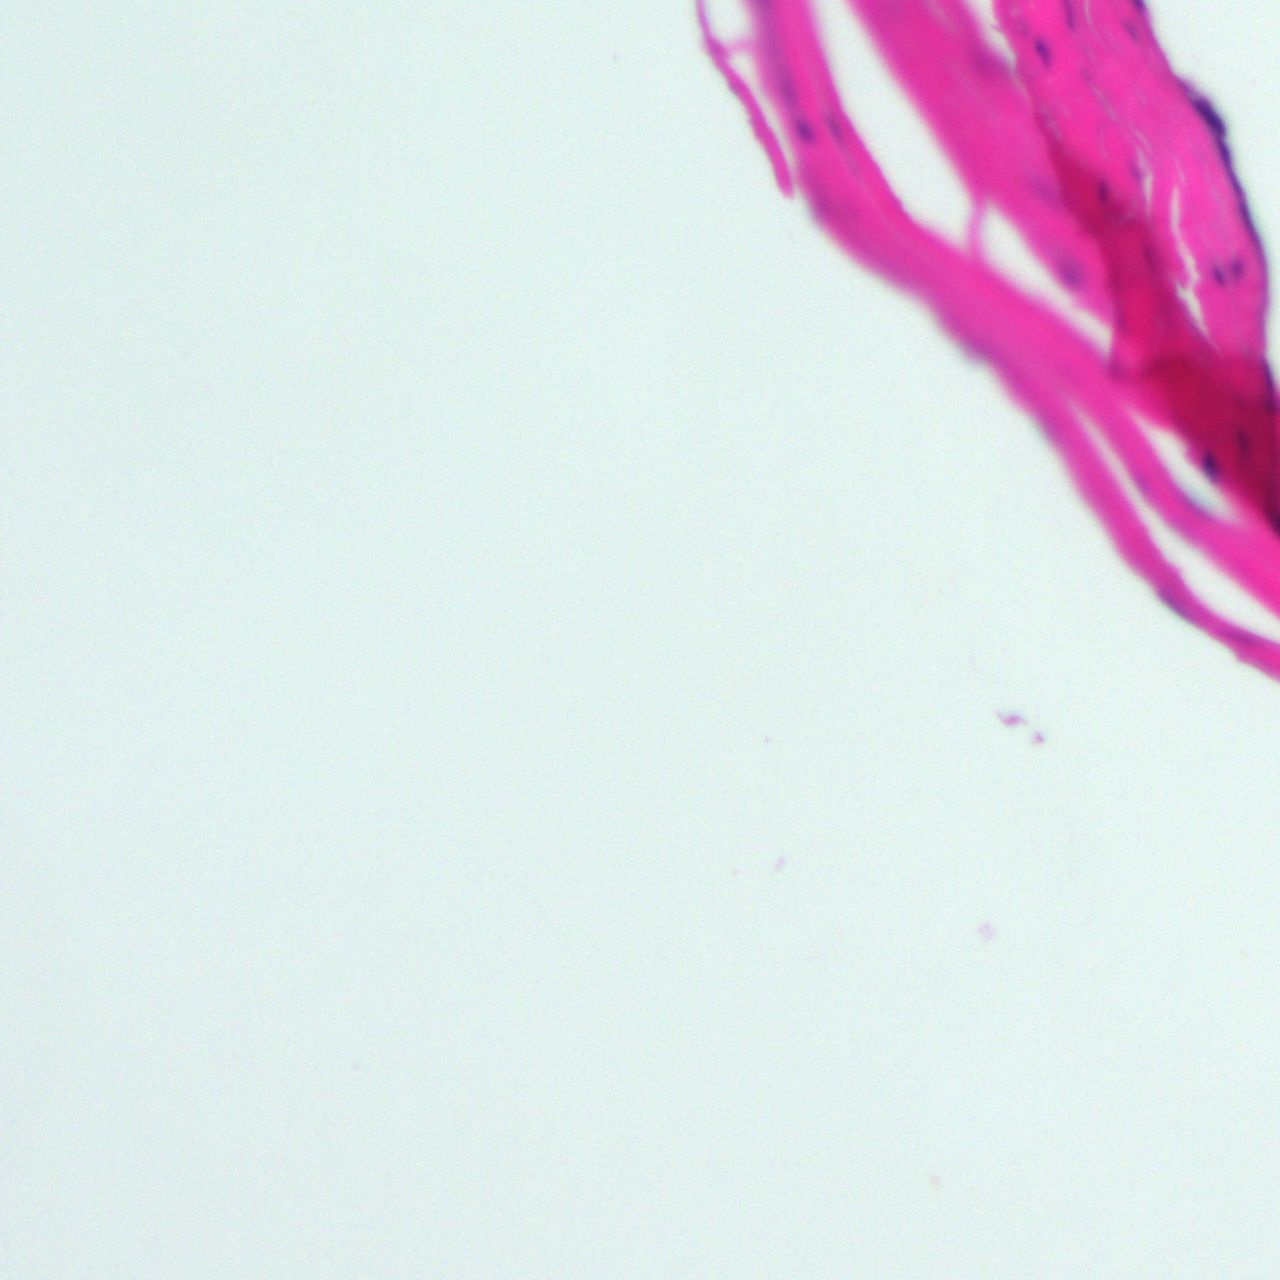nucleus-HE: (1212, 139, 1261, 227), (1182, 88, 1234, 142), (1054, 255, 1085, 292), (1260, 353, 1276, 417), (1231, 424, 1251, 463), (1227, 252, 1250, 285), (1031, 33, 1050, 68), (1199, 449, 1215, 486), (794, 114, 812, 143), (1206, 261, 1223, 289), (1094, 169, 1110, 196)
